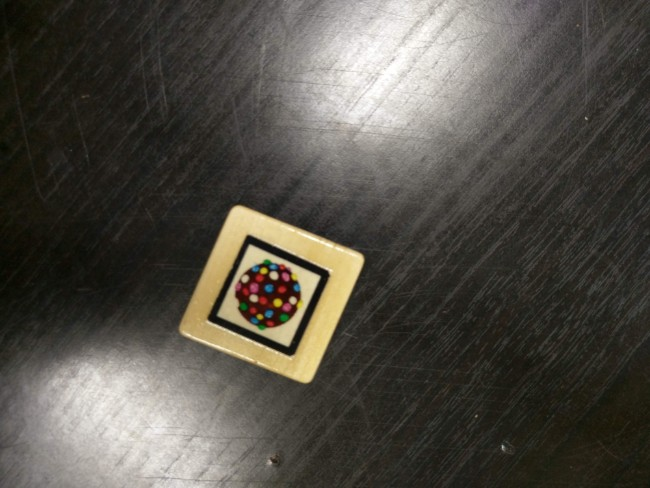cookie: (205, 235, 332, 360)
